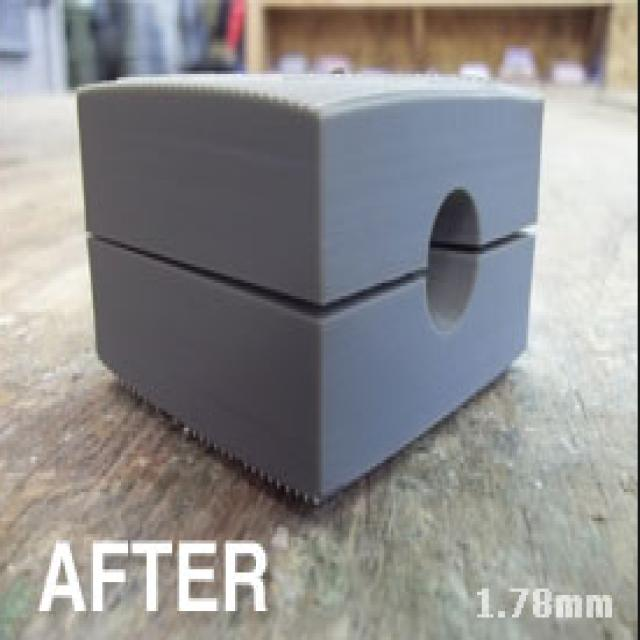Warping: (156, 240, 432, 360), (461, 213, 547, 267)
